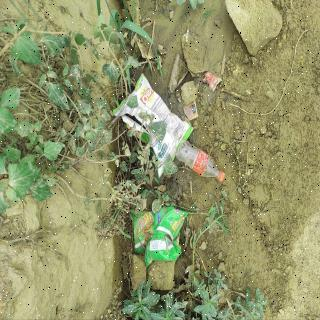Plastic-bottle: (176, 138, 228, 186)
